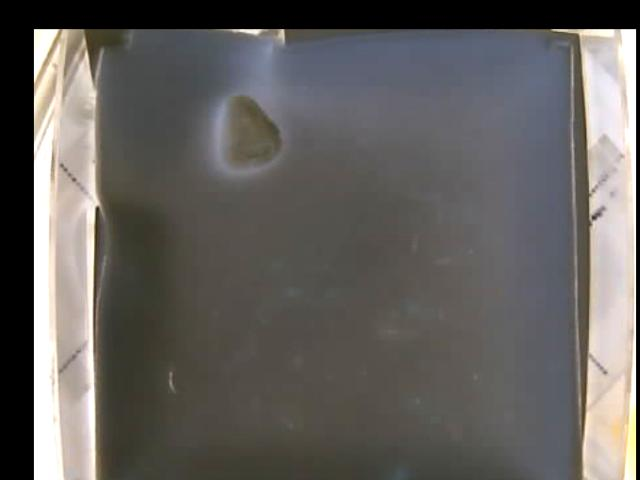Pebble: (222, 95, 282, 173)
